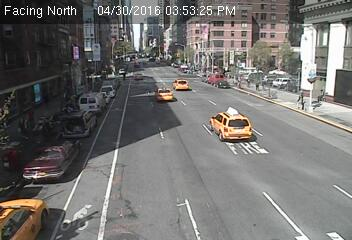neg: (41, 142, 69, 180), (145, 64, 170, 98), (84, 56, 108, 88), (277, 154, 299, 183), (231, 109, 252, 137), (166, 119, 187, 147), (106, 167, 126, 194), (266, 101, 286, 127), (171, 180, 191, 206), (47, 53, 66, 78), (69, 107, 87, 131), (219, 176, 236, 198), (193, 69, 208, 88), (241, 60, 256, 79)
